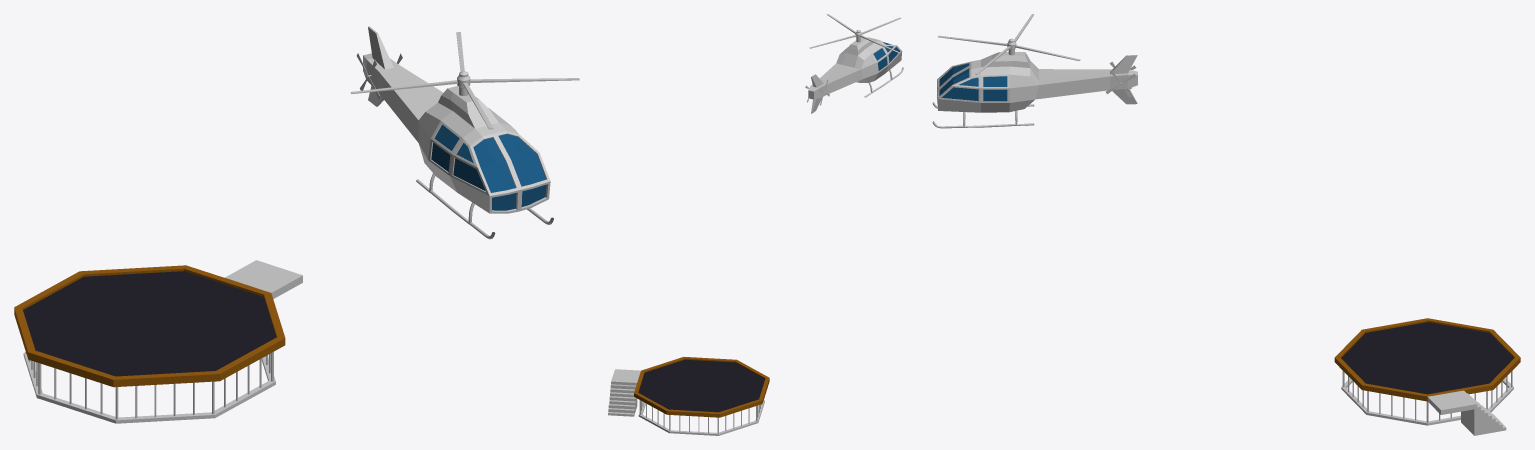
File: copter_000046.obj
3 renders of one model, left to right at view 1: azimuth 30°, elevation 25°; view 2: azimuth 150°, elevation 25°; view 3: azimuth 270°, elevation 25°, orthographic. The views are drawn at different scales.
Visible parts, largest first — view 1: Cylinder.001_Cylinder.012, Helicopter.007_Cylinder.008, Helicopter.001_Cylinder.001, Cylinder.004, Cylinder.003_Cylinder.005; view 2: Cylinder.001_Cylinder.012, Helicopter.007_Cylinder.008, Helicopter.001_Cylinder.001; view 3: Cylinder.001_Cylinder.012, Helicopter.007_Cylinder.008, Helicopter.001_Cylinder.001.
Part boxes in pixels (x1=…): Cylinder.001_Cylinder.012: x1=14, y1=260, x2=302, y2=423; Helicopter.007_Cylinder.008: x1=363, y1=26, x2=553, y2=239; Helicopter.001_Cylinder.001: x1=350, y1=32, x2=579, y2=129; Cylinder.004: x1=135, y1=358, x2=261, y2=418; Cylinder.003_Cylinder.005: x1=28, y1=353, x2=270, y2=414; Cylinder.001_Cylinder.012: x1=608, y1=356, x2=769, y2=435; Helicopter.007_Cylinder.008: x1=808, y1=37, x2=903, y2=113; Helicopter.001_Cylinder.001: x1=809, y1=14, x2=901, y2=52; Cylinder.001_Cylinder.012: x1=1334, y1=318, x2=1520, y2=435; Helicopter.007_Cylinder.008: x1=932, y1=52, x2=1137, y2=128; Helicopter.001_Cylinder.001: x1=938, y1=14, x2=1080, y2=74.
Size of the model in its own units: 7.94 by 14.07 by 21.42.
